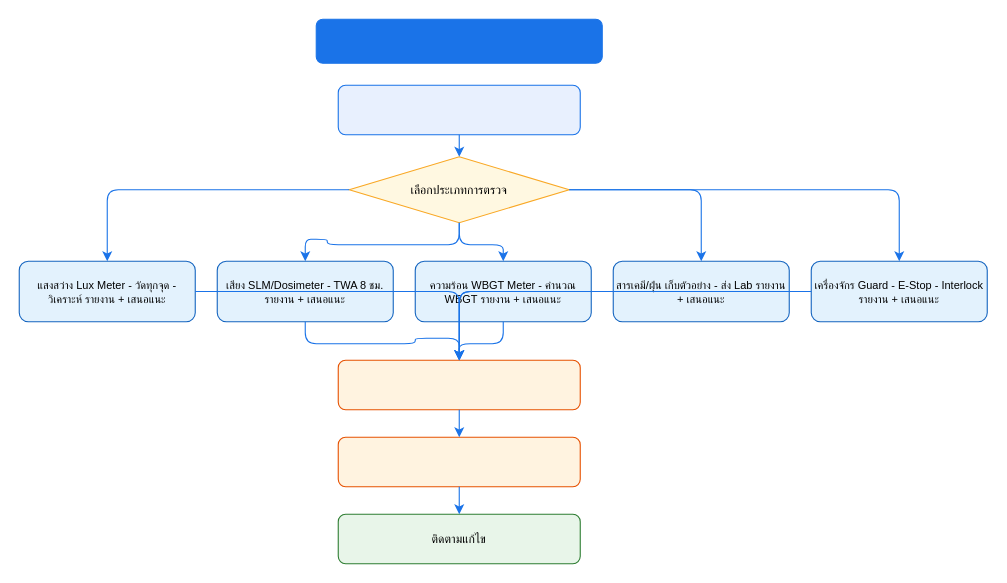
Some shapes in this 1007 by 583 pixel diagram are drawn without their labels. The box of each missing label's shape, as (x1, y1, x2, y2) in pixels:
PM-WI-002: จป.เทคนิค: (315, 18, 602, 63)
รวบรวมผลทั้งหมด: (337, 359, 580, 410)
เริ่ม: วางแผนตรวจวัดประจำปี: (337, 84, 580, 135)
เสนอผู้บริหาร: (337, 436, 580, 487)
